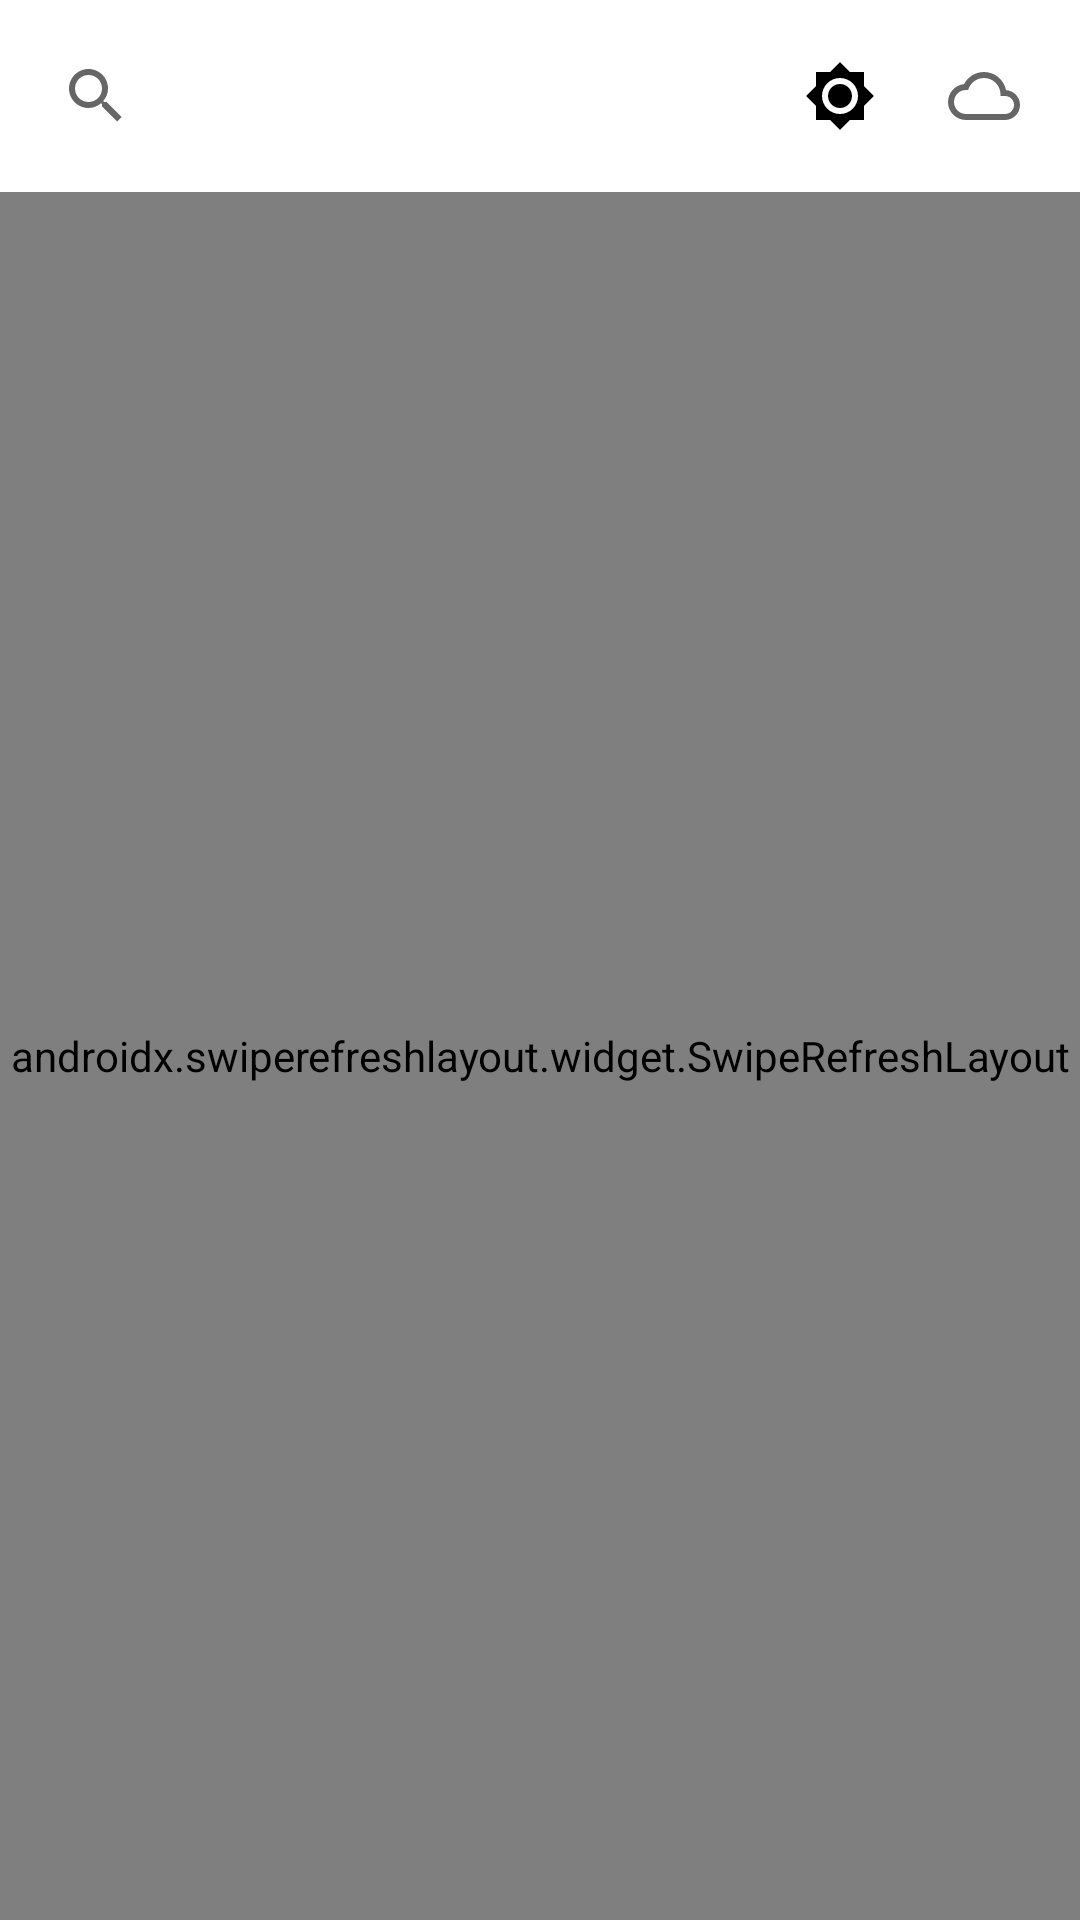

Named icons in this screenshot (1080px×1920px) and their centers, (x=x, y=y):
Сменить тему: (x=840, y=96)
